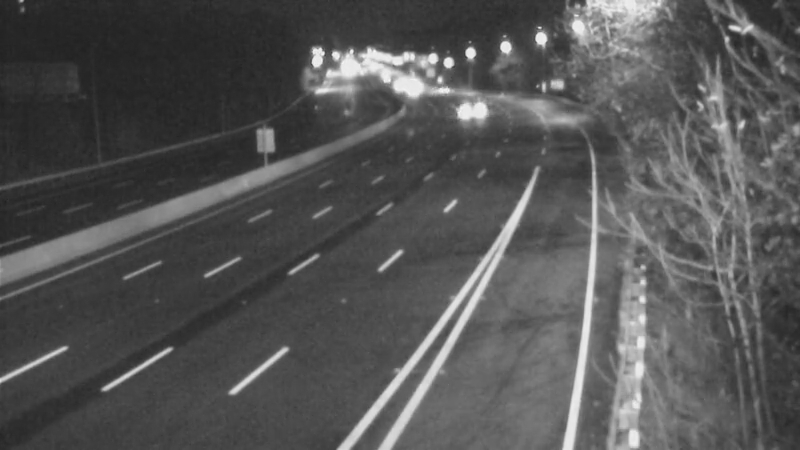vehicle: (387, 62, 437, 112), (412, 64, 462, 114), (453, 83, 503, 133)
